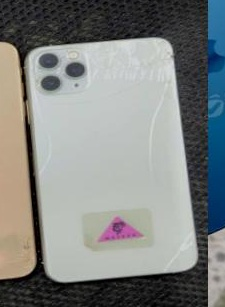physical_damage: (89, 37, 177, 93), (32, 45, 92, 94), (0, 224, 37, 282), (144, 86, 183, 141), (152, 184, 195, 226), (141, 142, 179, 188), (30, 96, 64, 141), (162, 222, 201, 258), (37, 140, 70, 174), (155, 258, 182, 275)
